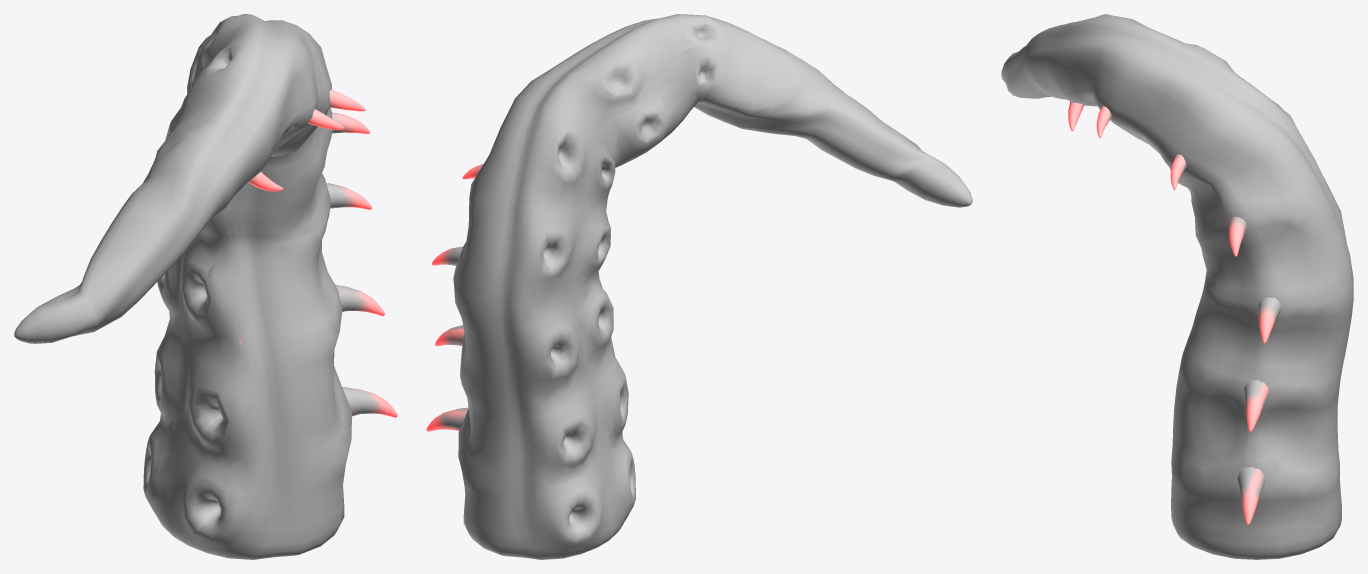
Rendered from wallTentacle_6.fbx.
3 views of the same model, side by side, from view 1: azimuth 30°, elevation 25°; view 2: azimuth 150°, elevation 25°; view 3: azimuth 270°, elevation 25° (orthographic). The views are drawn at different scales.
Parts seen in each view (by area): view 1: wallTentacle.6; view 2: wallTentacle.6; view 3: wallTentacle.6.
Part boxes in pixels (x1,y1,x2,y2): wallTentacle.6: (14,14,397,559); wallTentacle.6: (426,14,972,559); wallTentacle.6: (1001,14,1353,559).
Size of the model in its own units: 730 by 768 by 513.
